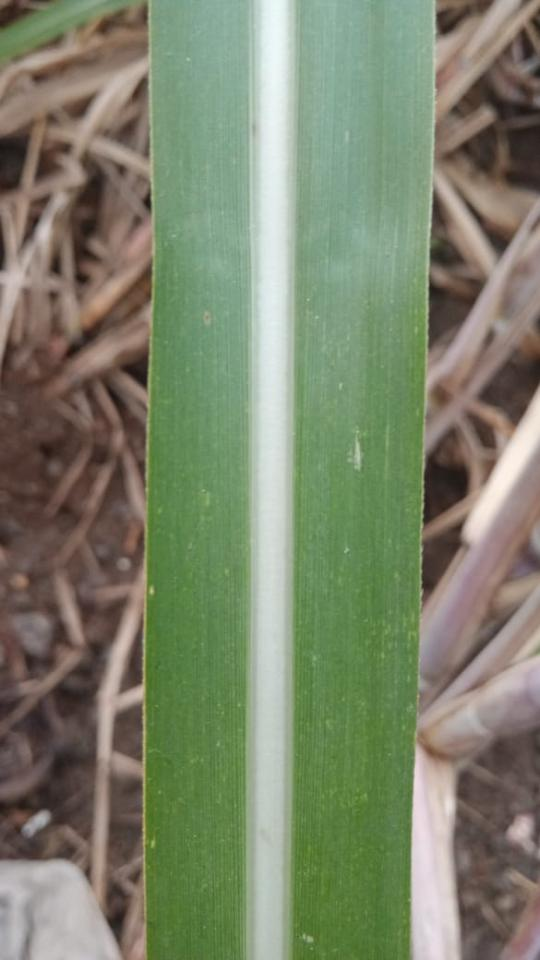Healthy: (143, 0, 433, 959)
